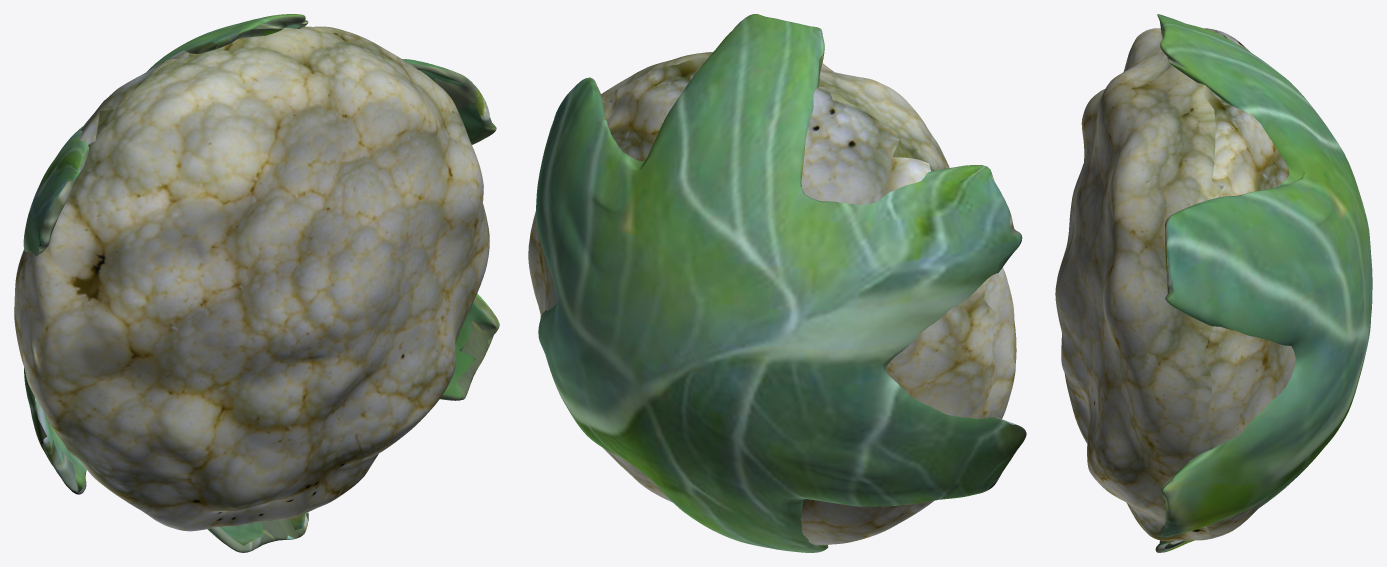
The model's file is cauliflower.obj.
3 renders of one model, left to right at view 1: azimuth 30°, elevation 25°; view 2: azimuth 150°, elevation 25°; view 3: azimuth 270°, elevation 25°, orthographic. The views are drawn at different scales.
Visible parts, largest first — view 1: Cauliflower; view 2: Cauliflower; view 3: Cauliflower.
Boxes of the visible parts, left/top/right/bottom form: Cauliflower: left=14, top=14, right=499, bottom=552; Cauliflower: left=528, top=14, right=1026, bottom=552; Cauliflower: left=1055, top=14, right=1372, bottom=552.
Size of the model in its own units: 19.68 by 21.22 by 11.86.
Materials: 1 (1 with a texture image).
